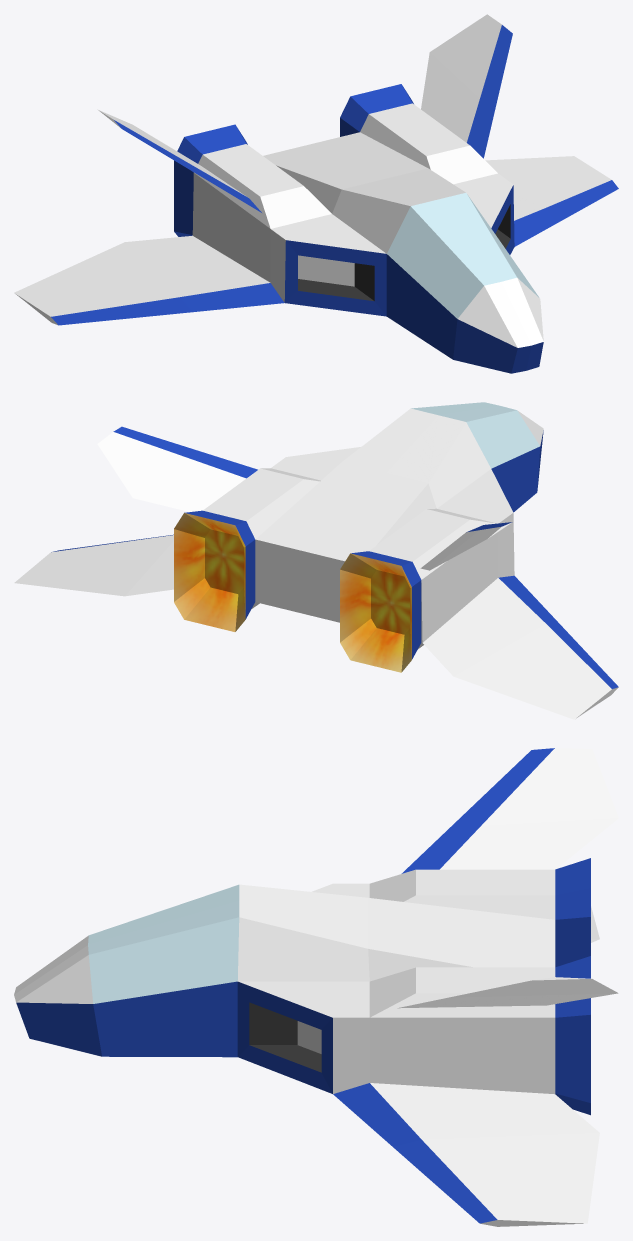
File: SpaceshipFritaskgodi.fbx
3 views of the same model, one above another, from view 1: azimuth 30°, elevation 25°; view 2: azimuth 150°, elevation 25°; view 3: azimuth 270°, elevation 25° (orthographic). The views are drawn at different scales.
Parts seen in each view (by area): view 1: Cube; view 2: Cube; view 3: Cube.
Part boxes in pixels (left/top/right/bottom): Cube: left=14, top=14, right=618, bottom=373; Cube: left=14, top=402, right=618, bottom=719; Cube: left=14, top=748, right=618, bottom=1226.
Bounding box in the file's own units: 493 × 139 × 381.
